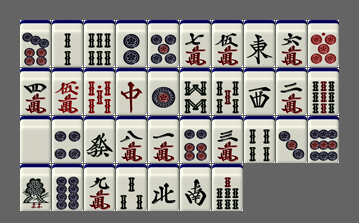0m: (52, 68, 83, 115)
0p: (308, 20, 339, 67)
0s: (84, 68, 115, 115)
1m: (148, 116, 179, 163)
1p: (148, 68, 179, 115)
1s: (20, 164, 51, 211)
1z: (244, 20, 275, 67)
2m: (276, 68, 307, 115)
2p: (116, 20, 147, 67)
2s: (52, 20, 83, 67)
2z: (180, 164, 211, 211)
3m: (212, 116, 243, 163)
3p: (276, 116, 307, 163)
3s: (116, 164, 147, 211)
3z: (244, 68, 275, 115)
4m: (20, 68, 51, 115)
4p: (52, 116, 83, 163)
4s: (244, 116, 275, 163)
4z: (148, 164, 179, 211)
5m: (212, 20, 243, 67)
5p: (148, 20, 179, 67)
5s: (212, 68, 243, 115)
5z: (20, 116, 51, 163)
6m: (276, 20, 307, 67)
6p: (180, 116, 211, 163)
6s: (84, 20, 115, 67)
6z: (84, 116, 115, 163)
7m: (180, 20, 211, 67)
7p: (20, 20, 51, 67)
7s: (212, 164, 243, 211)
7z: (116, 68, 147, 115)
8m: (116, 116, 147, 163)
8p: (52, 164, 83, 211)
8s: (180, 68, 211, 115)
9m: (84, 164, 115, 211)
9p: (308, 116, 339, 163)
9s: (308, 68, 339, 115)
